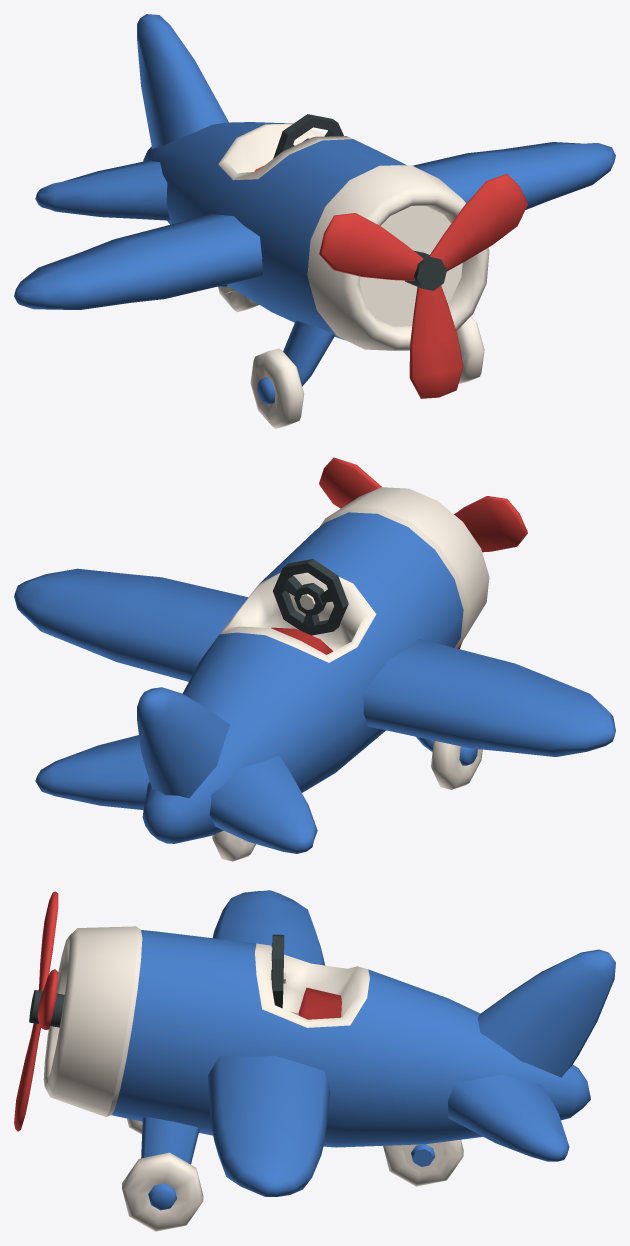
3 renders of one model, top to bottom at view 1: azimuth 30°, elevation 25°; view 2: azimuth 150°, elevation 25°; view 3: azimuth 270°, elevation 25°, orthographic.
Visible parts, largest first — view 1: Plane_01, Plane_01_Propeller; view 2: Plane_01, Plane_01_Propeller; view 3: Plane_01, Plane_01_Propeller.
Boxes of the visible parts, x1=… form: Plane_01: x1=14, y1=14, x2=615, y2=428; Plane_01_Propeller: x1=319, y1=174, x2=527, y2=398; Plane_01: x1=14, y1=487, x2=615, y2=861; Plane_01_Propeller: x1=319, y1=457, x2=527, y2=648; Plane_01: x1=43, y1=890, x2=615, y2=1231; Plane_01_Propeller: x1=14, y1=891, x2=64, y2=1131.
Size of the model in its own units: 0.4042 by 0.1596 by 0.3476.
